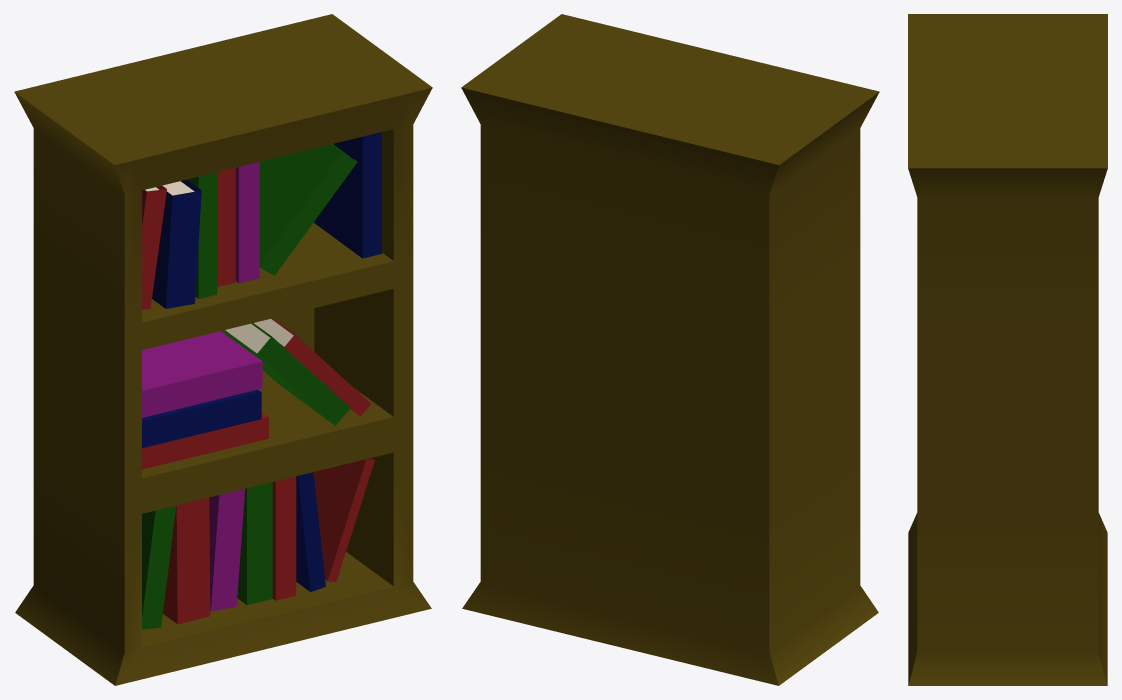
File: BookShelfLargeFinal.fbx
3 renders of one model, left to right at view 1: azimuth 30°, elevation 25°; view 2: azimuth 150°, elevation 25°; view 3: azimuth 270°, elevation 25°, orthographic.
Visible parts, largest first — view 1: BookCaseLarge, C3, B3, C7, C5, A1, A7, B4, A4, B2, A3, A2 (+8 smaller); view 2: BookCaseLarge; view 3: BookCaseLarge.
Boxes of the visible parts, box(x1,y1,x2,y2) form: BookCaseLarge: box(14, 14, 432, 685); C3: box(259, 144, 357, 275); B3: box(142, 331, 262, 417); C7: box(314, 132, 381, 258); C5: box(152, 179, 201, 308); A1: box(163, 497, 210, 624); A7: box(313, 458, 374, 582); B4: box(221, 323, 350, 425); A4: box(237, 482, 272, 604); B2: box(142, 389, 261, 448); A3: box(209, 489, 245, 610); A2: box(142, 505, 176, 629); BookCaseLarge: box(461, 14, 879, 685); BookCaseLarge: box(908, 14, 1107, 685).
Bounding box in the file's own units: 5.06 × 7.93 × 2.77.
